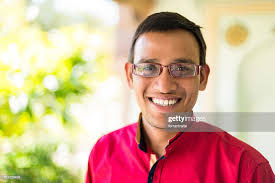Indian_Male: (122, 27, 209, 123)
